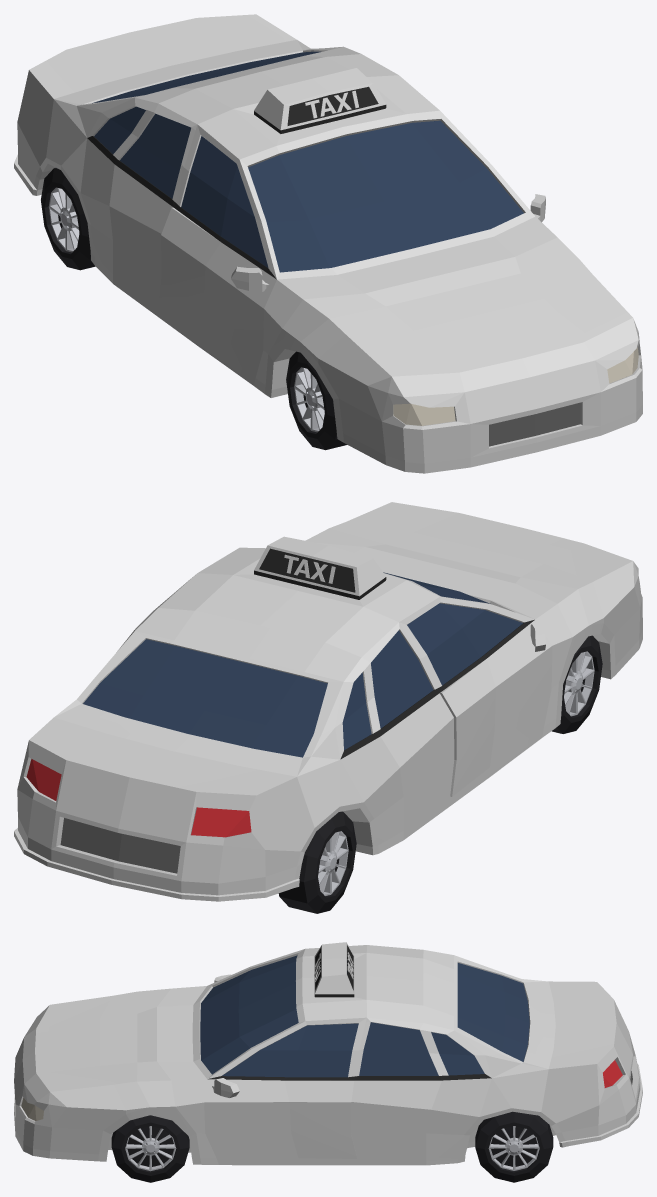
Rendered from taxi.glb.
The picture shows the model from 3 angles, top to bottom: view 1: azimuth 30°, elevation 25°; view 2: azimuth 150°, elevation 25°; view 3: azimuth 270°, elevation 25°; orthographic projection. The views are drawn at different scales.
Visible parts, largest first — view 1: paint, glass, trim, tyre, rim, light; view 2: paint, glass, trim, tyre, rim, light; view 3: paint, glass, tyre, rim, trim, light.
Boxes of the visible parts, x1=… form: paint: x1=14, y1=14, x2=642, y2=473; glass: x1=92, y1=51, x2=523, y2=272; trim: x1=87, y1=86, x2=580, y2=446; tyre: x1=41, y1=168, x2=346, y2=450; rim: x1=48, y1=187, x2=324, y2=432; light: x1=393, y1=347, x2=638, y2=425; paint: x1=14, y1=502, x2=642, y2=901; glass: x1=83, y1=572, x2=522, y2=757; trim: x1=60, y1=548, x2=534, y2=873; tyre: x1=278, y1=635, x2=602, y2=913; rim: x1=318, y1=651, x2=594, y2=895; light: x1=26, y1=759, x2=251, y2=837; paint: x1=14, y1=942, x2=642, y2=1165; glass: x1=200, y1=955, x2=529, y2=1077; tyre: x1=111, y1=1111, x2=553, y2=1182; rim: x1=125, y1=1126, x2=539, y2=1171; trim: x1=208, y1=945, x2=632, y2=1084; light: x1=21, y1=1060, x2=622, y2=1120.
Size of the model in its own units: 1.97 by 1.43 by 4.6.
